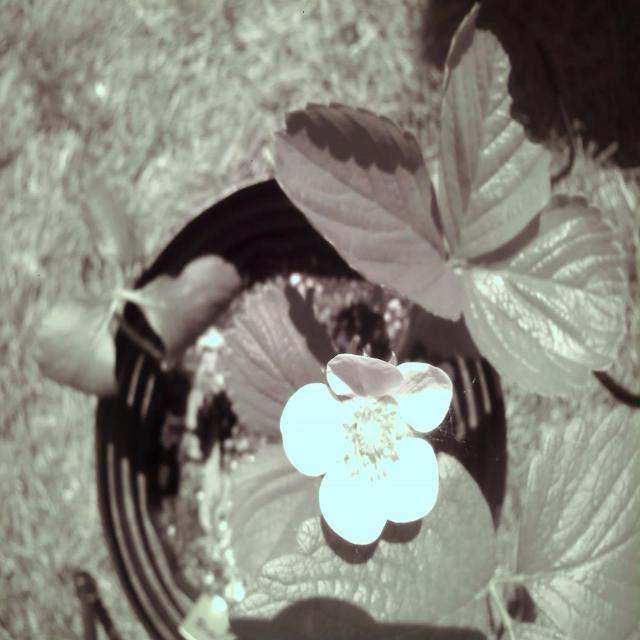flower: (272, 346, 460, 556)
